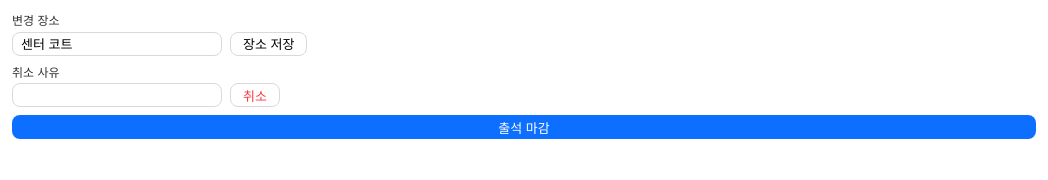
Test: MeetingLifecycleControls › shows a safe action error in the row
In the field named "1차 정모 취소 사유": (117,95) [12,83,222,107], type "우천"
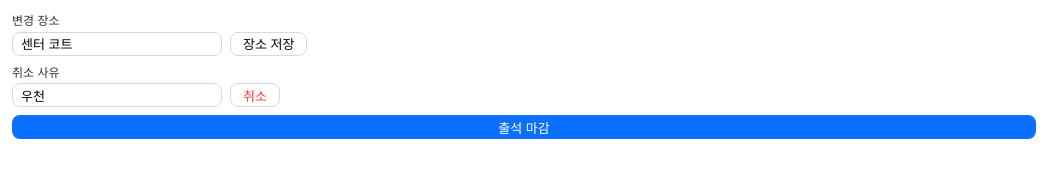
Click the button with aria-label "1차 정모 취소": (255,95) [230,83,280,107]
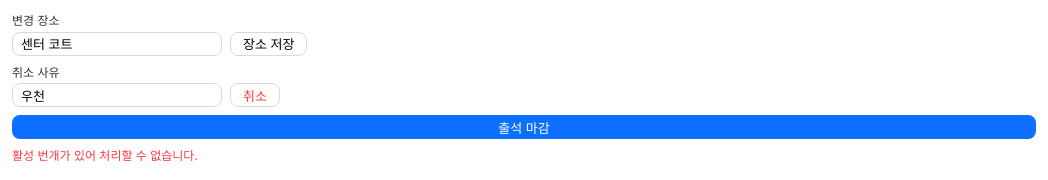
Result: the message reads "활성 번개가 있어 처리할 수 없습니다." at [12,146,198,163]
